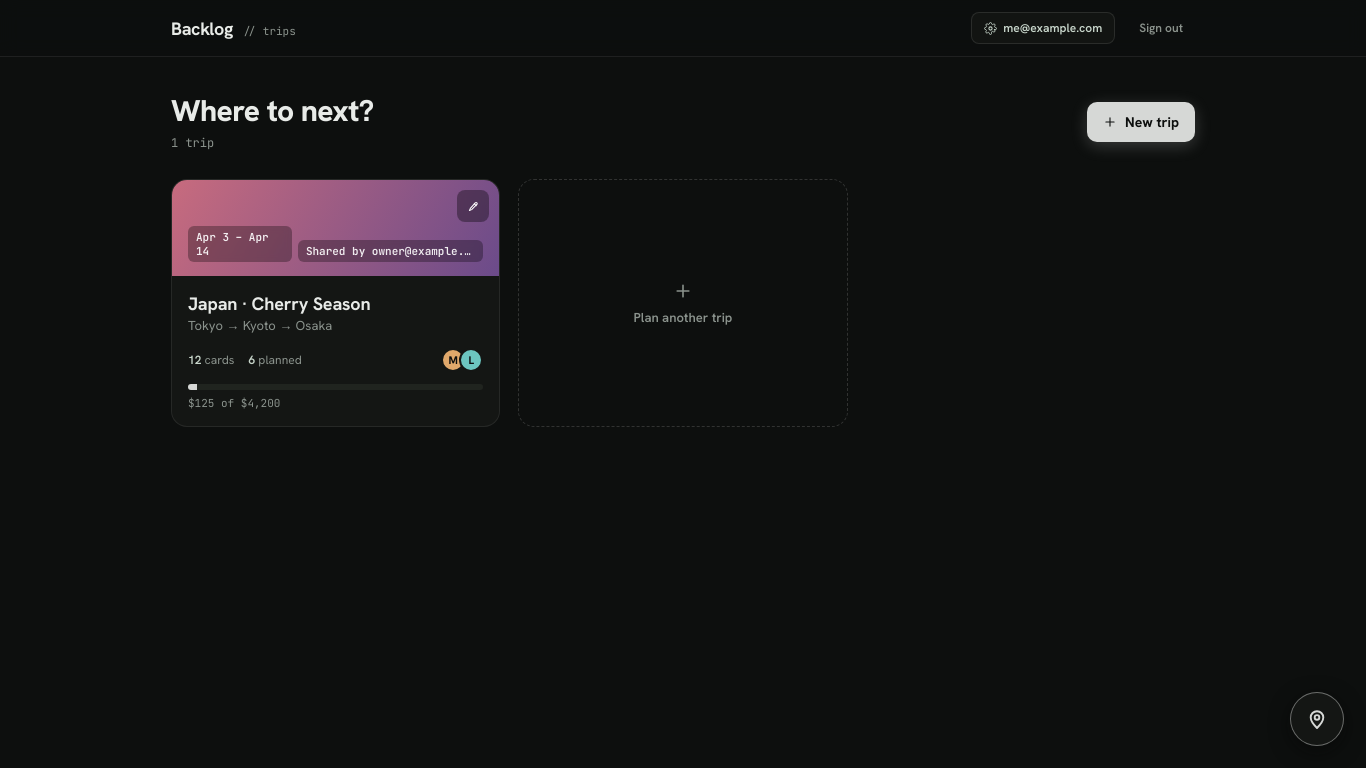
Test: TripPlanner › a trip shared with you says by whom, can't be deleted, and can be left
This screenshot has width=1366, height=768.
Expected: the text "Shared by owner@example.com" is shown, x1=298 y1=240 x2=483 y2=262
Click the button with aria-label "Open Japan · Cherry Season": (279, 304) x1=188 y1=292 x2=370 y2=315
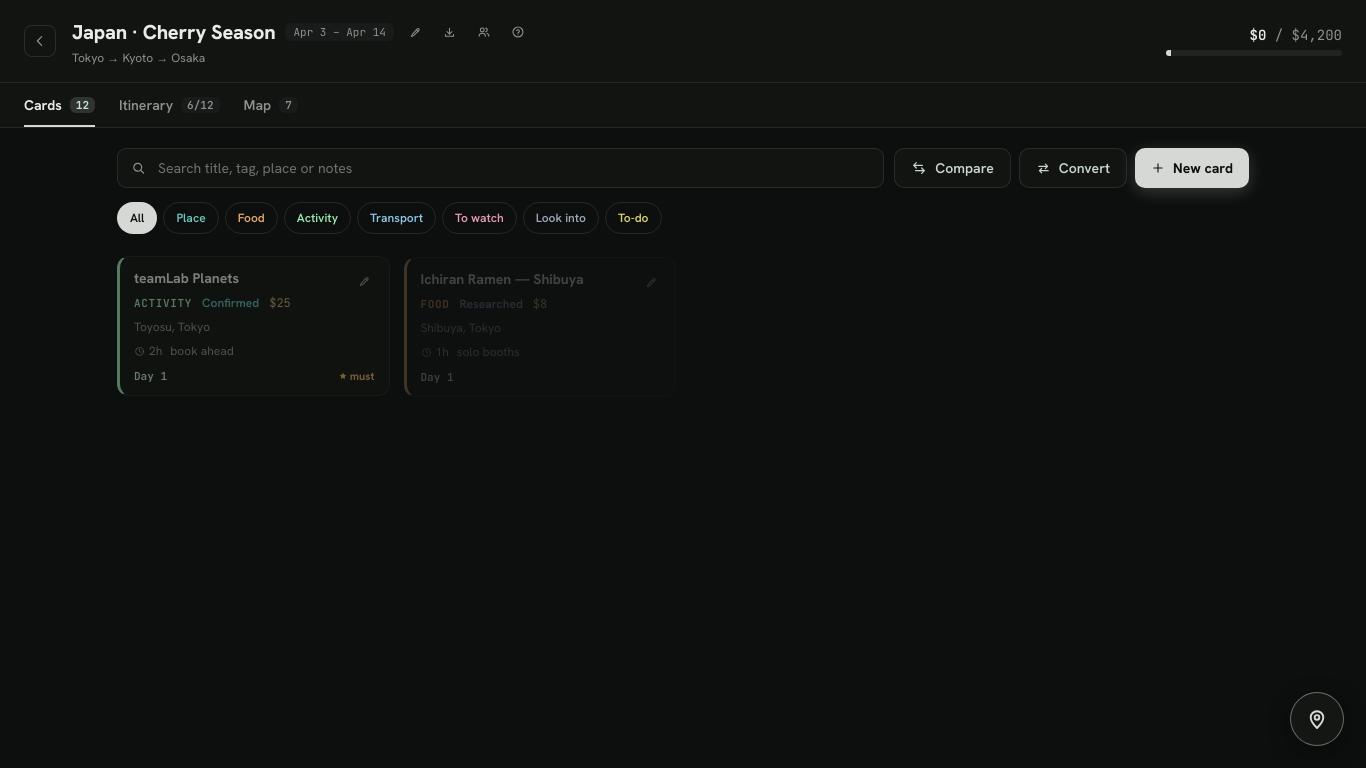
Click the button named "Edit trip": (416, 32) x1=400 y1=16 x2=432 y2=48
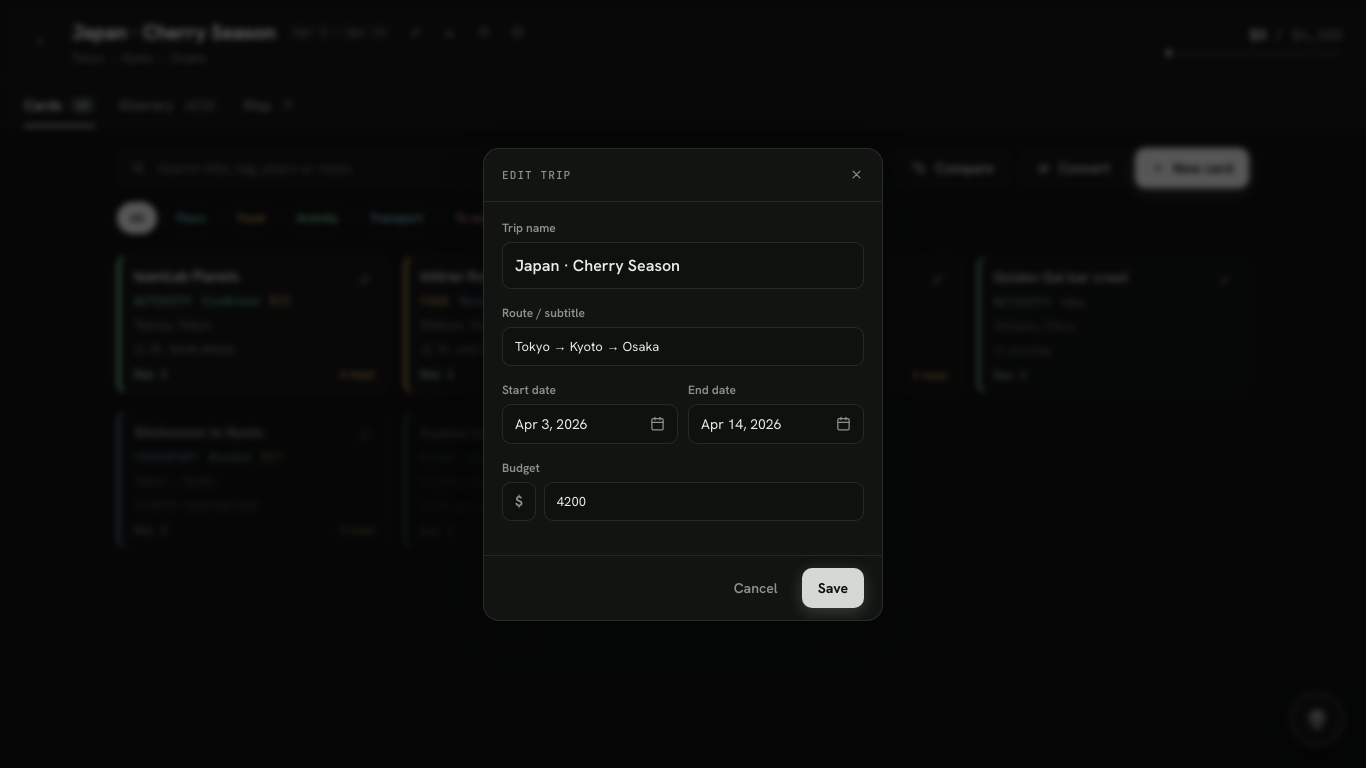
Click the button "Cancel": (756, 588) x1=718 y1=568 x2=794 y2=608
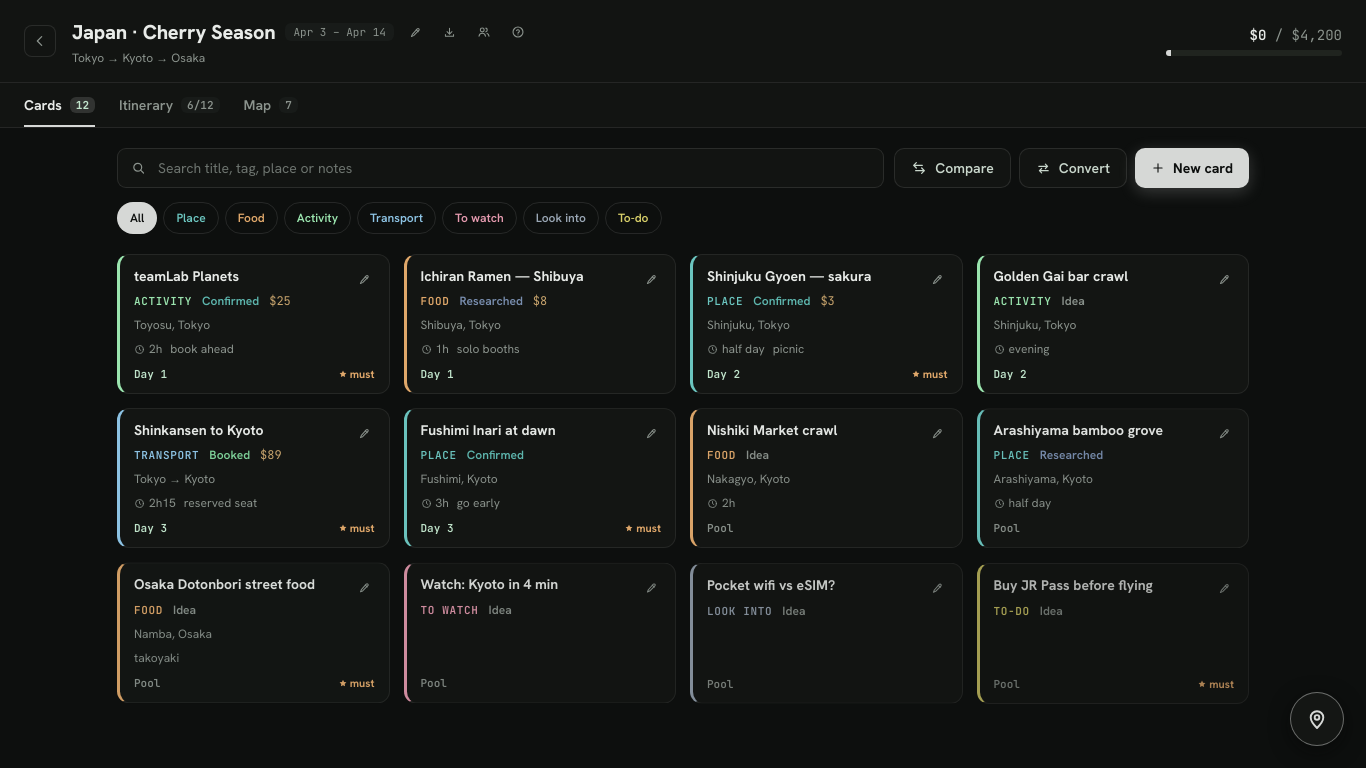
Click the button named "Share trip, 1 guest": (484, 32) x1=468 y1=16 x2=500 y2=48
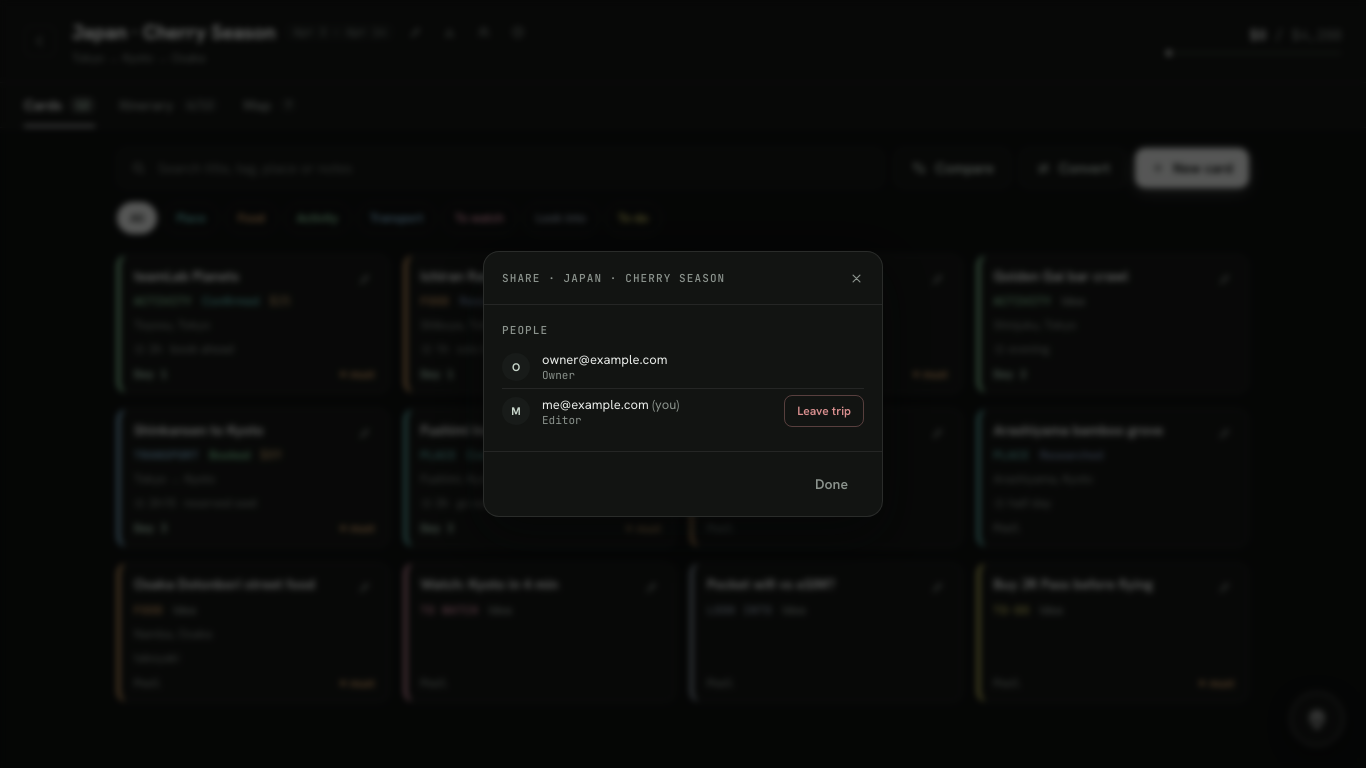
Click the button "Leave trip": (824, 411) x1=784 y1=395 x2=864 y2=427
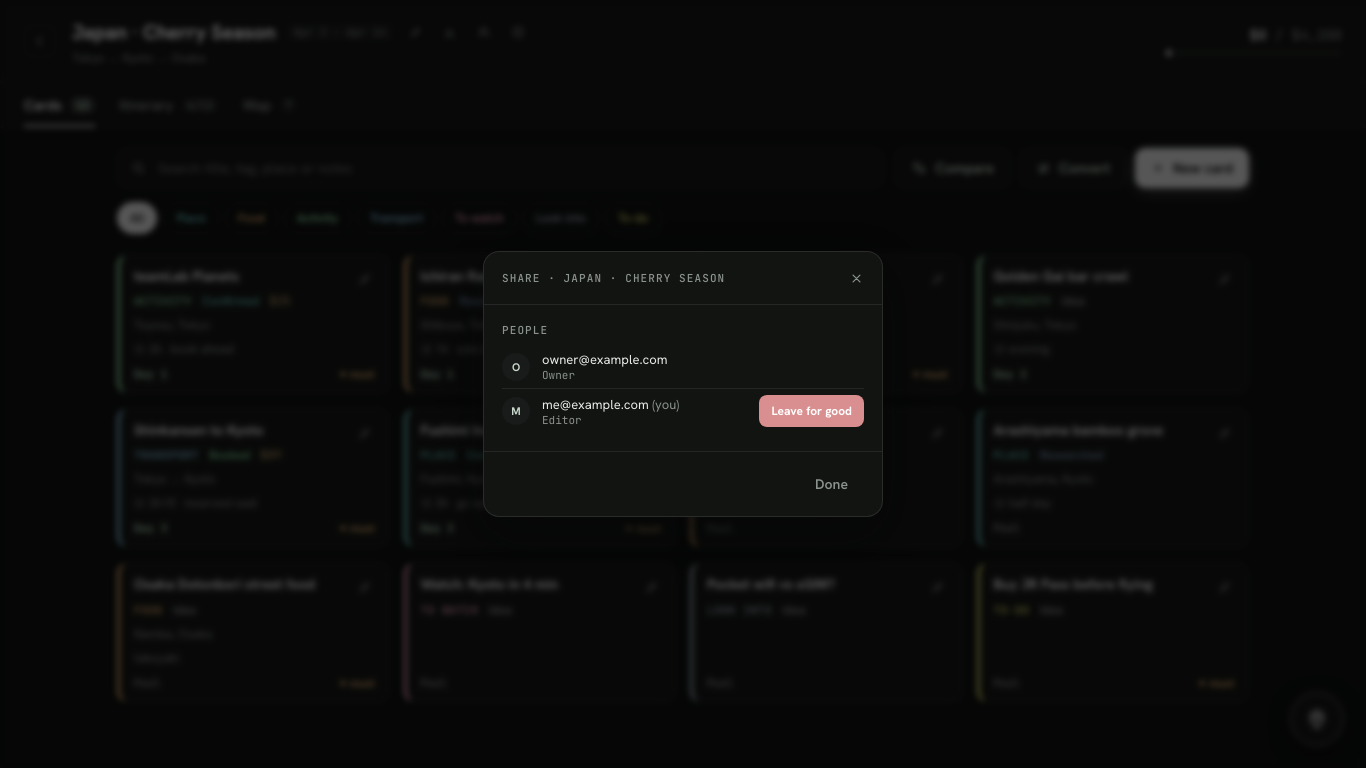
Click the button "Leave for good": (812, 411) x1=760 y1=395 x2=864 y2=427
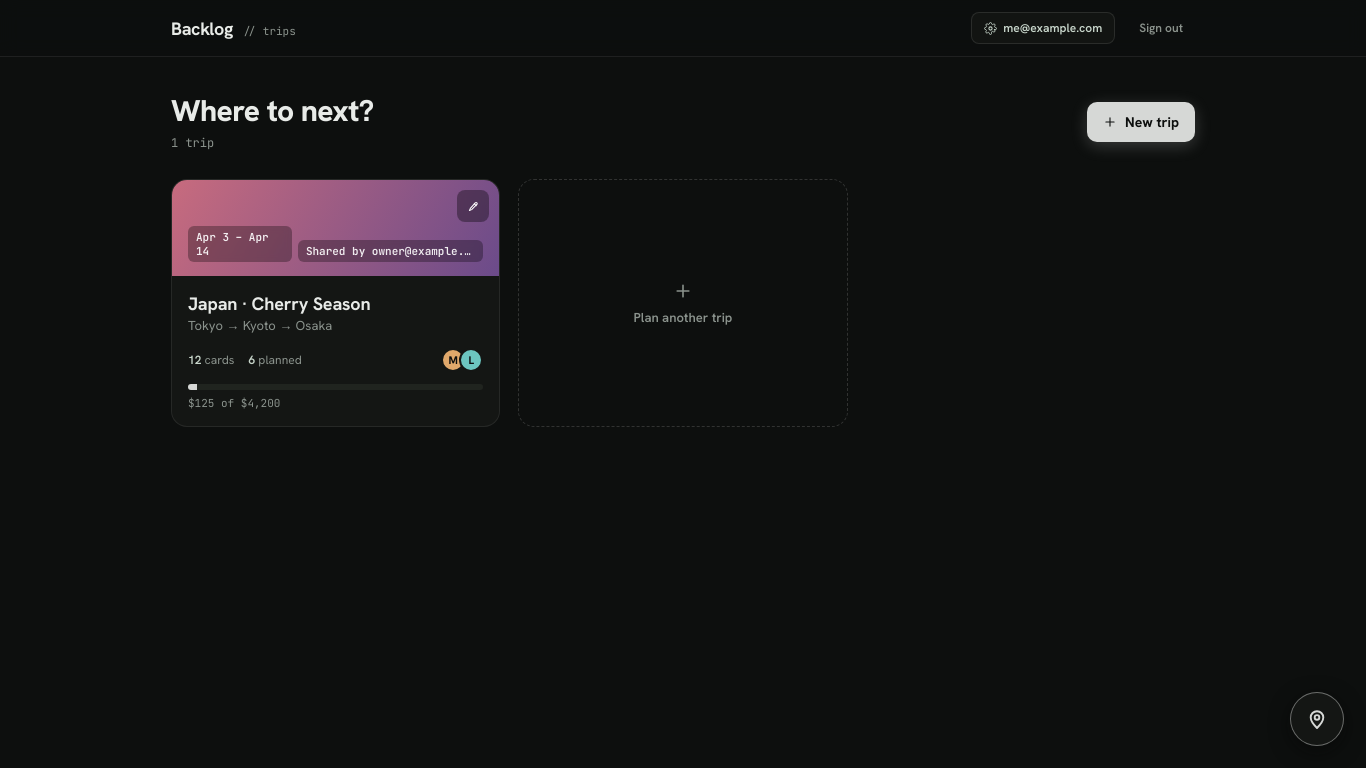
Expected: the heading "Where to next?" is shown, x1=171 y1=93 x2=374 y2=129
